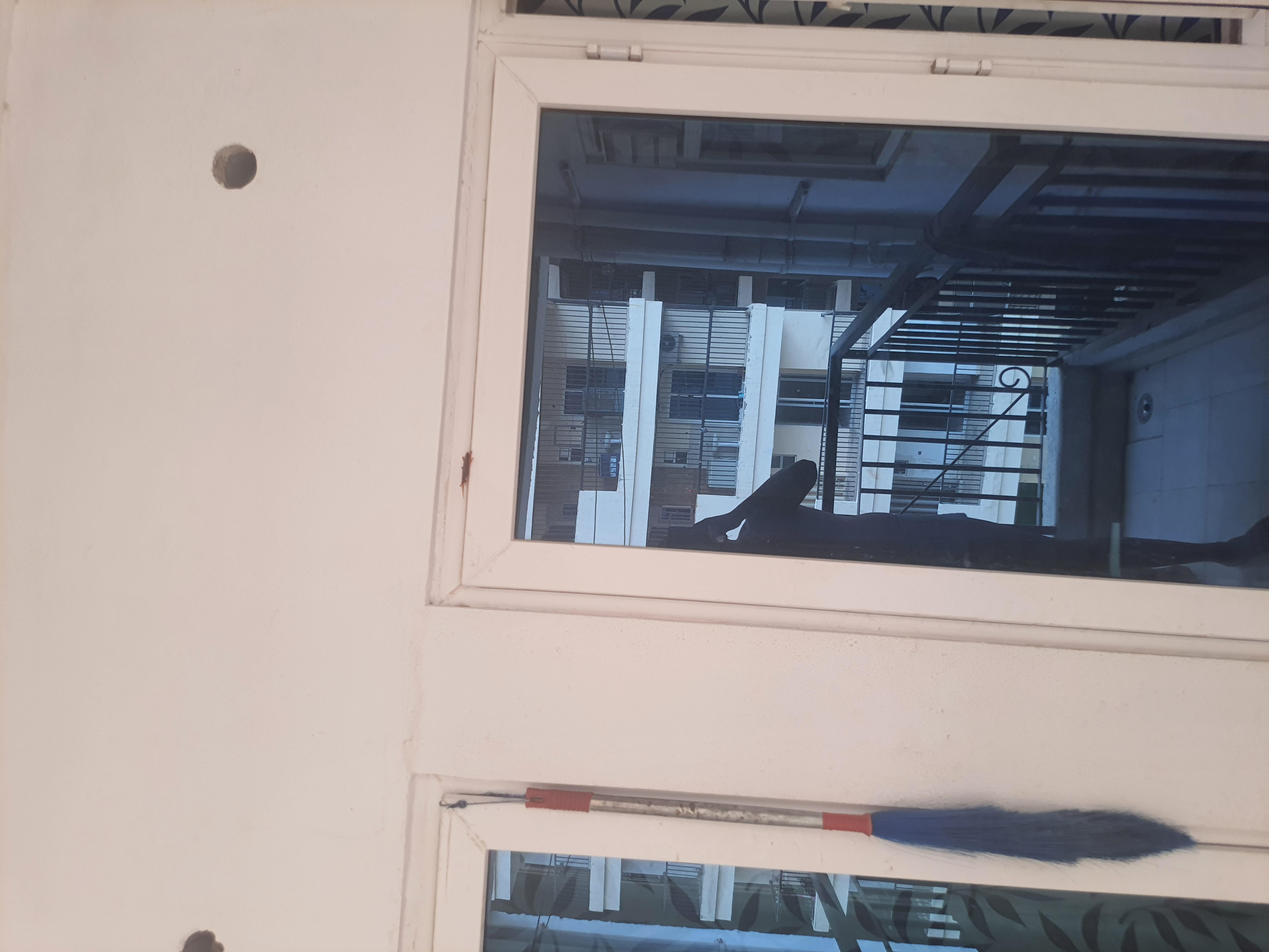cockroach: (596, 339, 669, 356)
